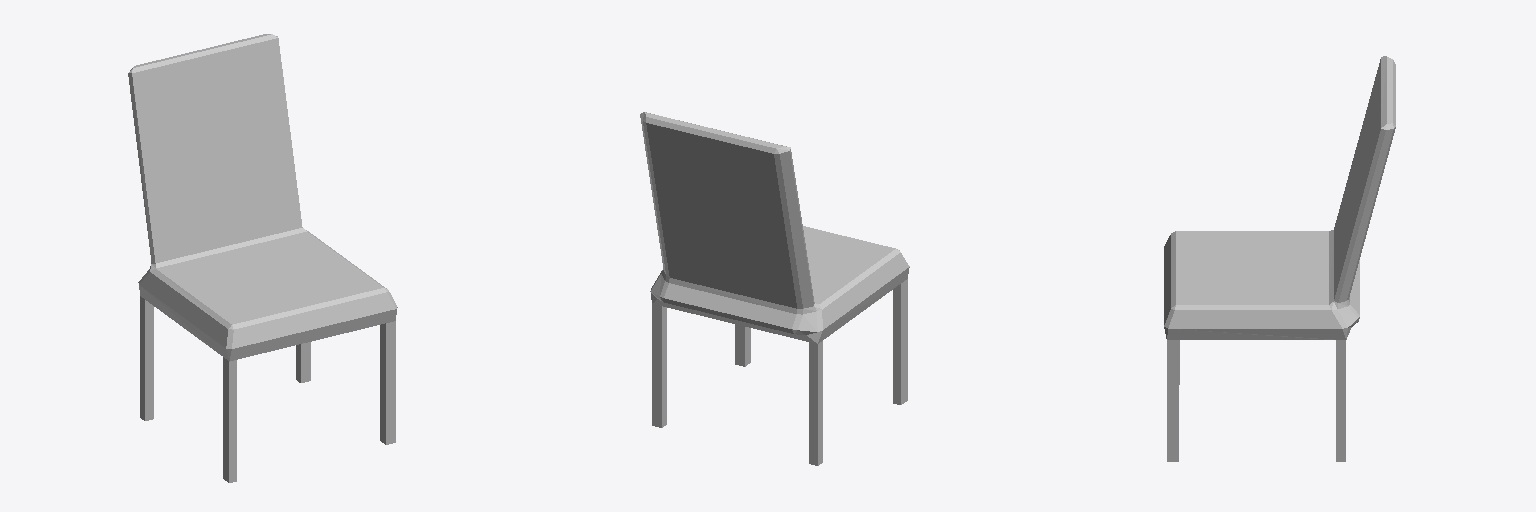
File: chair.obj
3 renders of one model, left to right at view 1: azimuth 30°, elevation 25°; view 2: azimuth 150°, elevation 25°; view 3: azimuth 270°, elevation 25°, orthographic.
Visible parts, largest first — view 1: chairs; view 2: chairs; view 3: chairs.
Boxes of the visible parts, box(x1,y1,x2,y2) form: chairs: box(128, 34, 397, 482); chairs: box(640, 112, 909, 465); chairs: box(1164, 56, 1395, 461).
Bounding box in the file's own units: 0.7533 × 1.39 × 0.8827.